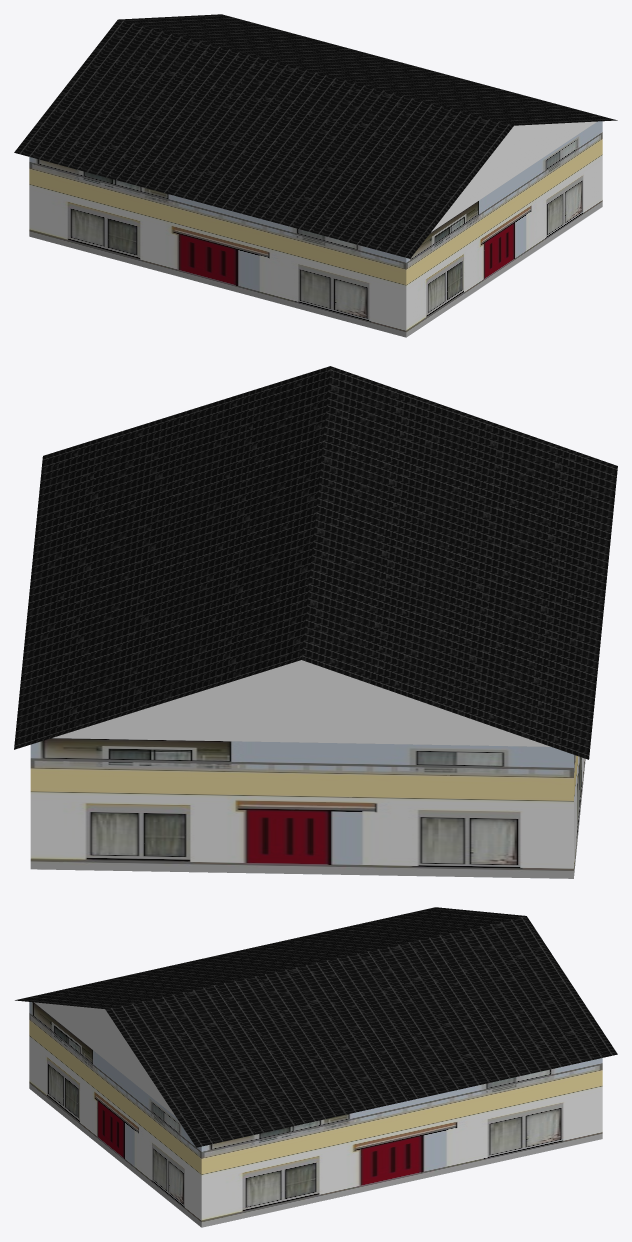
3 renders of one model, top to bottom at view 1: azimuth 30°, elevation 25°; view 2: azimuth 150°, elevation 25°; view 3: azimuth 270°, elevation 25°, orthographic. The views are drawn at different scales.
Visible parts, largest first — view 1: CityEngineMaterial_14_m, CityEngineMaterial_15_m, CityEngineMaterial_3_m; view 2: CityEngineMaterial_14_m, CityEngineMaterial_15_m, CityEngineMaterial_3_m; view 3: CityEngineMaterial_14_m, CityEngineMaterial_15_m, CityEngineMaterial_3_m.
Boxes of the visible parts, bbox=[...] form: CityEngineMaterial_14_m: bbox=[14, 14, 617, 258]; CityEngineMaterial_15_m: bbox=[29, 121, 602, 337]; CityEngineMaterial_3_m: bbox=[431, 121, 596, 232]; CityEngineMaterial_14_m: bbox=[14, 366, 617, 759]; CityEngineMaterial_15_m: bbox=[30, 738, 585, 878]; CityEngineMaterial_3_m: bbox=[53, 660, 550, 746]; CityEngineMaterial_14_m: bbox=[15, 907, 617, 1147]; CityEngineMaterial_15_m: bbox=[29, 1002, 602, 1227]; CityEngineMaterial_3_m: bbox=[34, 1002, 175, 1116].
Bounding box in the file's own units: 49.18 × 14.42 × 52.19.
